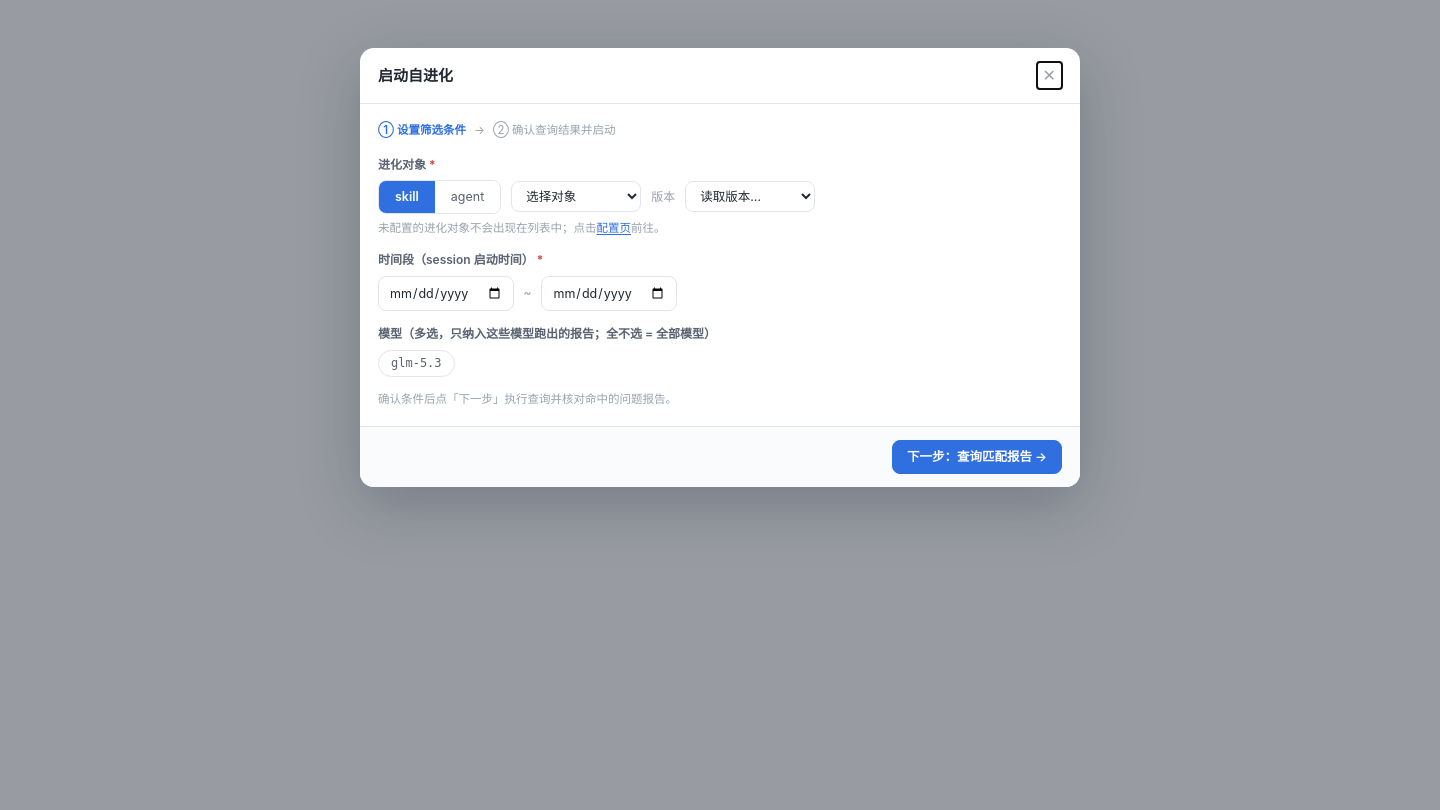
Test case: launch wizard › shows a retryable error when the version list fails and recovers after retry
Step 1. Select "deep-research" in the dropdown with test id "wizard-target" → (576,197), box [511,181,641,212]
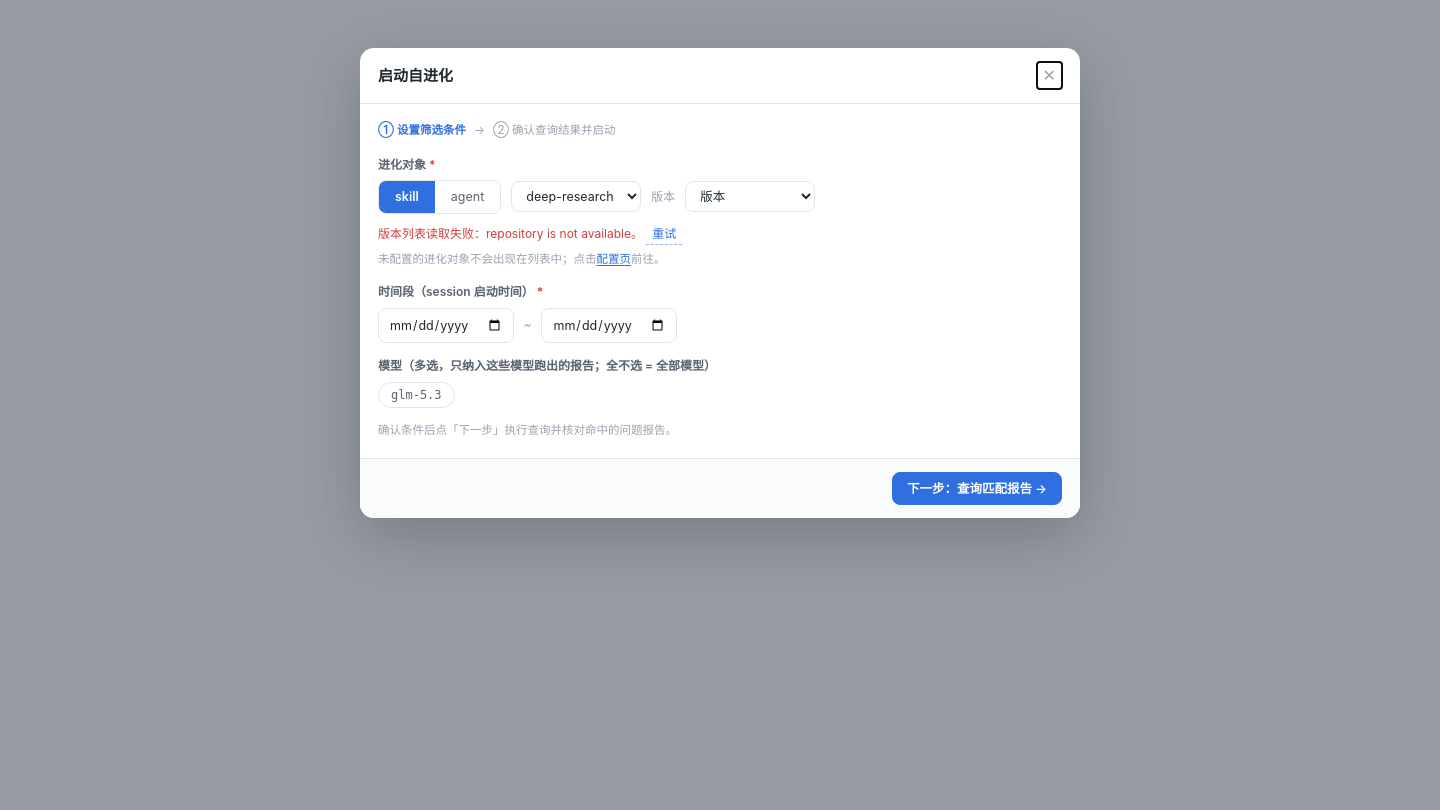
Result: the message with test id "wizard-version-load-error" shows "版本列表读取失败" at [378,226,474,241]
Result: the message with test id "wizard-version-load-error" shows "repository is not available" at [474,226,631,241]
Step 2. Click the button with test id "wizard-next" → (977,489), box [892,472,1062,505]
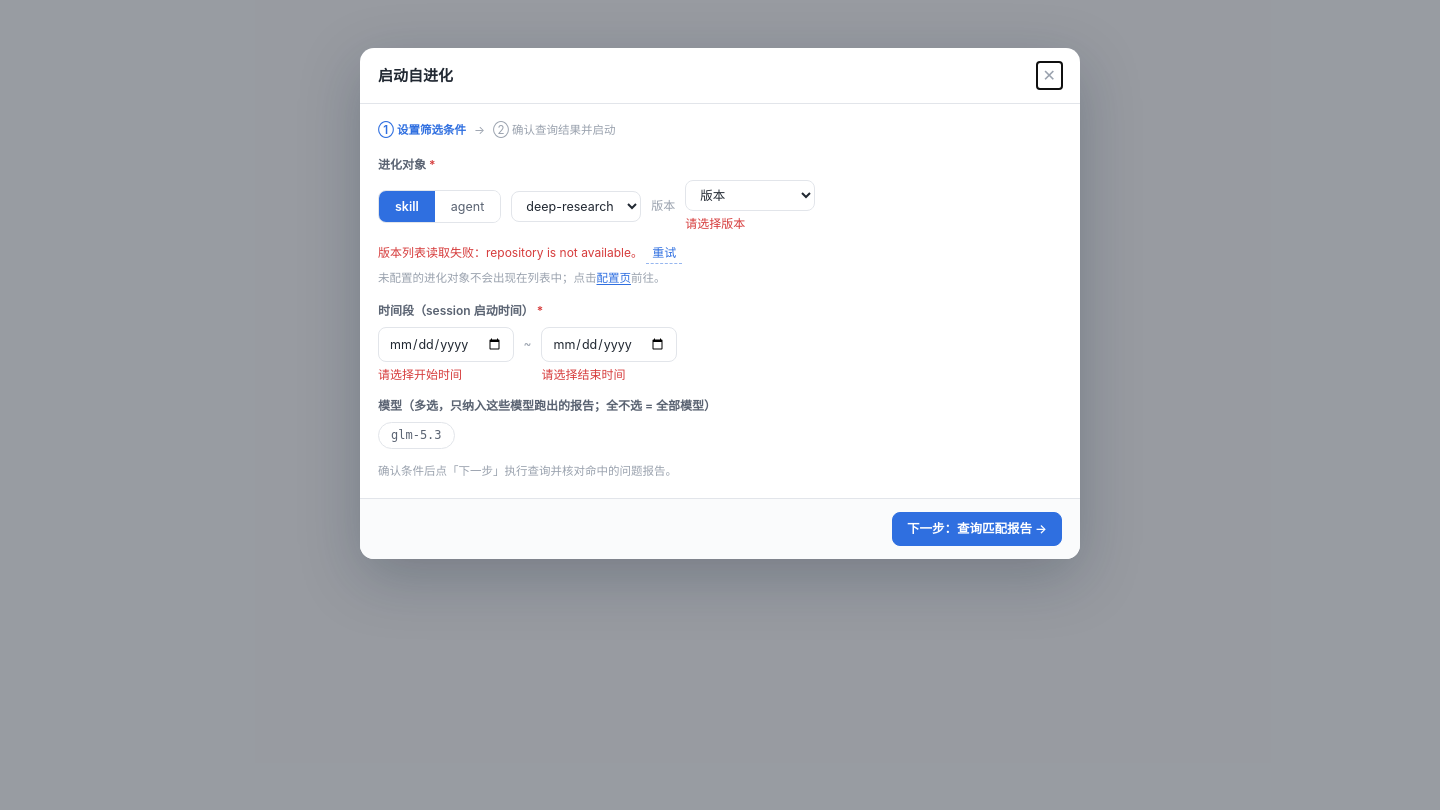
Result: the message with test id "wizard-version-load-error" shows "版本列表读取失败" at [378,245,474,260]
Result: the message with test id "wizard-version-error" reads "请选择版本" at [685,216,745,231]
Step 3. Click the button with test id "wizard-version-retry" → (664,253), box [646,243,682,264]
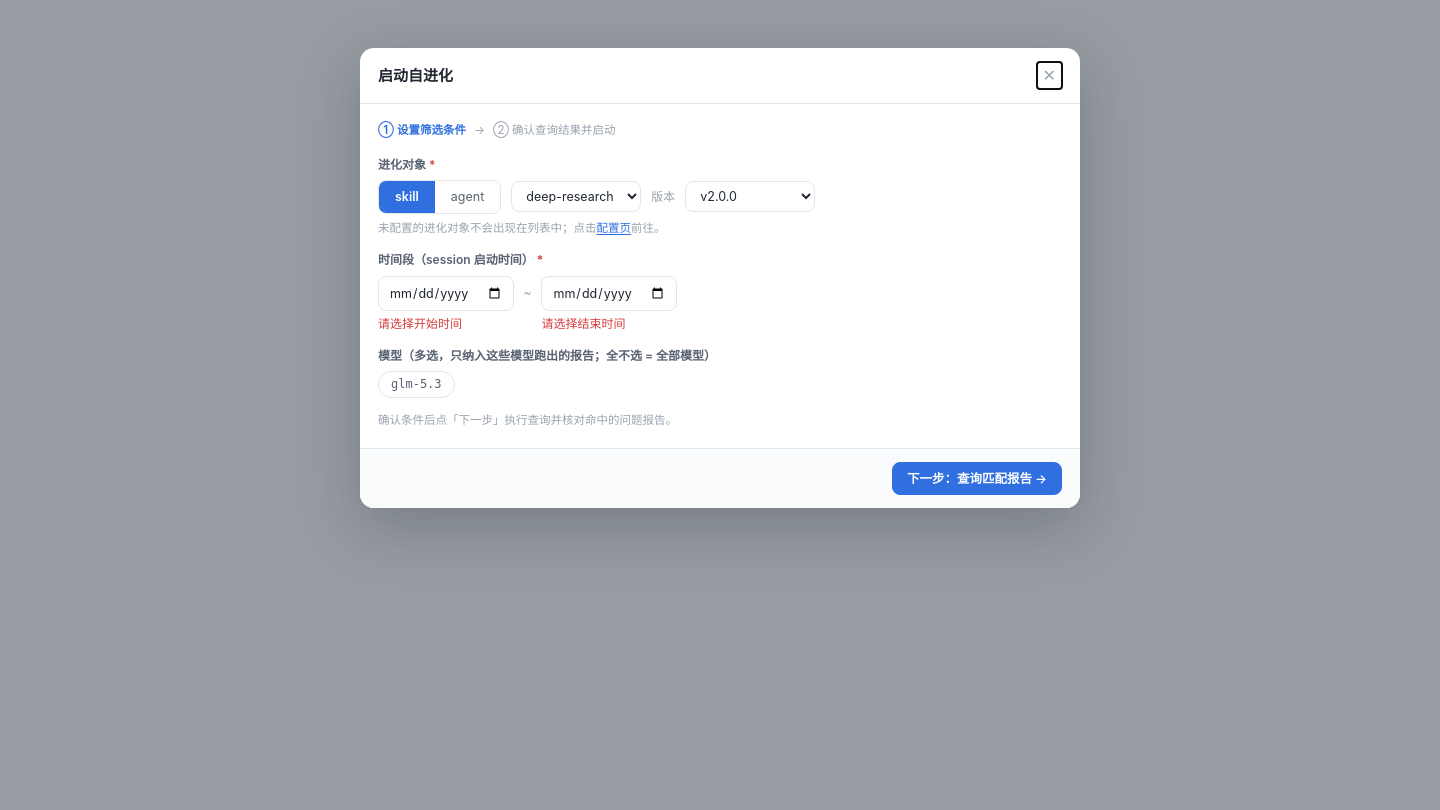
Expected: the button with test id "wizard-next" is enabled, [892,462,1062,495]
Result: the dropdown with test id "wizard-version" shows "v2.0.0" at [685,181,815,212]
